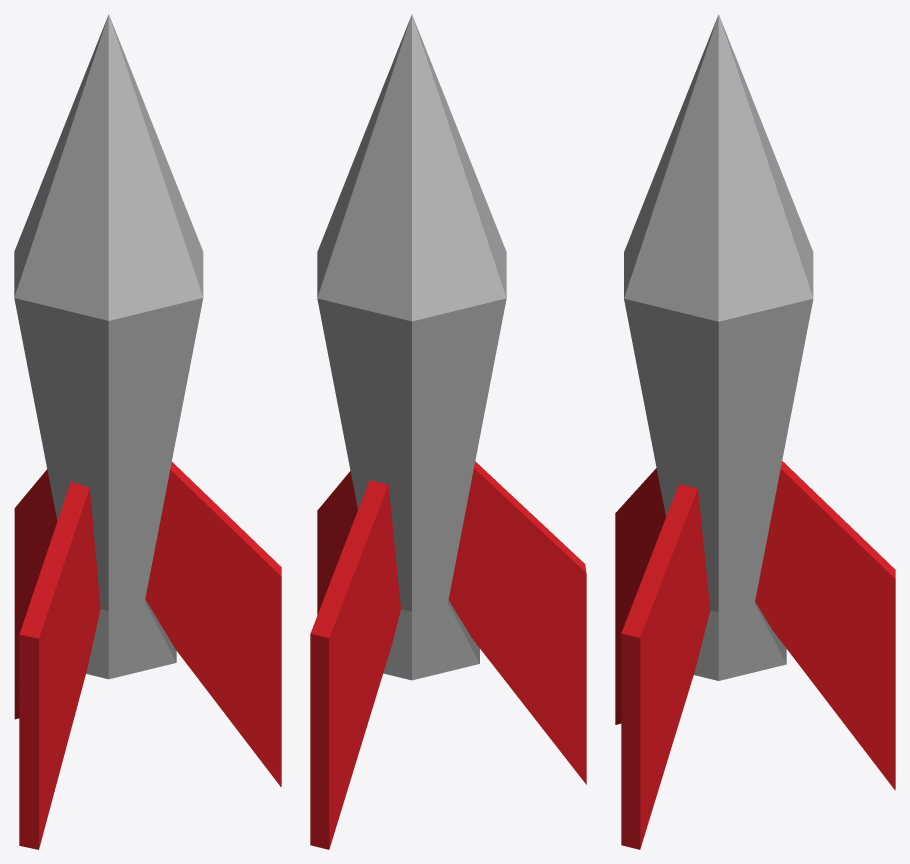
File: rocket.FBX
The picture shows the model from 3 angles, left to right: view 1: azimuth 30°, elevation 25°; view 2: azimuth 150°, elevation 25°; view 3: azimuth 270°, elevation 25°; orthographic projection.
Parts seen in each view (by area): view 1: NGon001; view 2: NGon001; view 3: NGon001.
Part boxes in pixels (bbox=[...]): NGon001: bbox=[14, 14, 281, 849]; NGon001: bbox=[310, 14, 586, 849]; NGon001: bbox=[615, 14, 895, 849].
Bounding box in the file's own units: 0.2809 × 0.7768 × 0.2562.
1 material, 1 textured.
